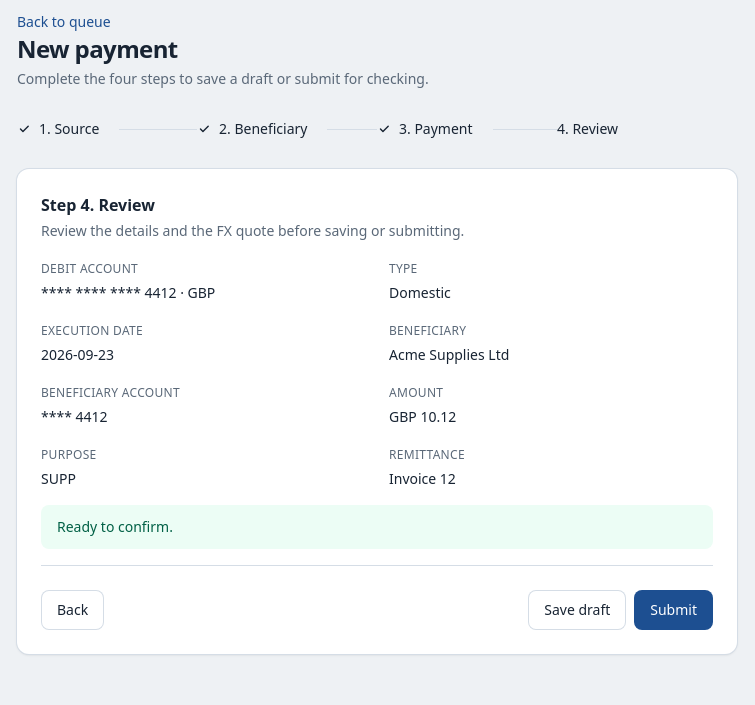
it: PaymentFormComponent › maps 422 fieldErrors onto the amount control
The width and height of the screenshot is (755, 705).
Click the button "Save draft" at [577, 610], box left=528, top=590, right=626, bottom=630
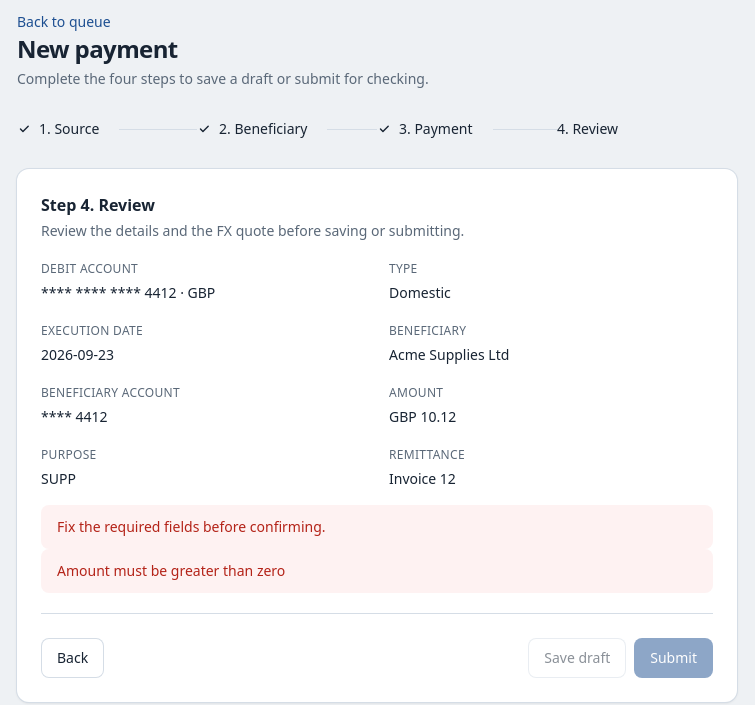
Check: the text "Amount must be greater than zero" is shown, box left=41, top=549, right=713, bottom=593
